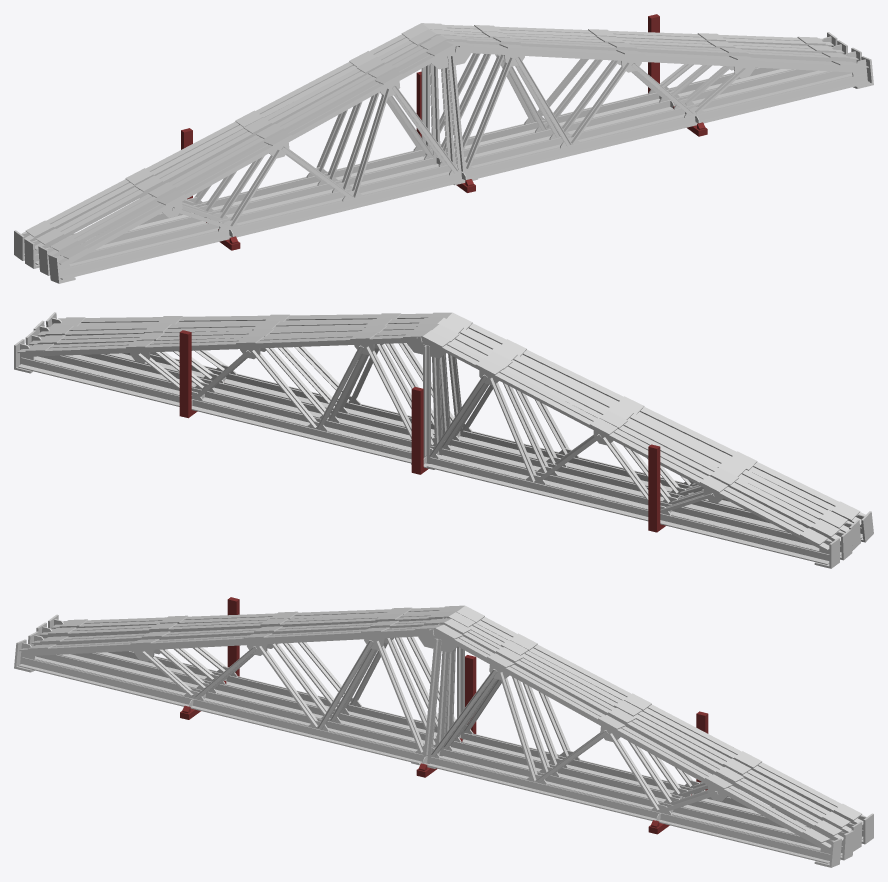
File: SM_Truss02Pack.fbx
3 views of the same model, one above another, from view 1: azimuth 30°, elevation 25°; view 2: azimuth 150°, elevation 25°; view 3: azimuth 330°, elevation 25° (orthographic).
Parts seen in each view (by area): view 1: Truss02PackConstr, Truss02PackBeams; view 2: Truss02PackConstr, Truss02PackBeams; view 3: Truss02PackConstr, Truss02PackBeams.
Boxes of the visible parts, box(x1,y1,x2,y2) form: Truss02PackConstr: box(14, 23, 873, 283); Truss02PackBeams: box(181, 14, 707, 250); Truss02PackConstr: box(14, 312, 873, 568); Truss02PackBeams: box(179, 330, 665, 532); Truss02PackConstr: box(14, 605, 873, 867); Truss02PackBeams: box(180, 597, 708, 834).
Size of the model in its own units: 1807 by 287 by 194.
